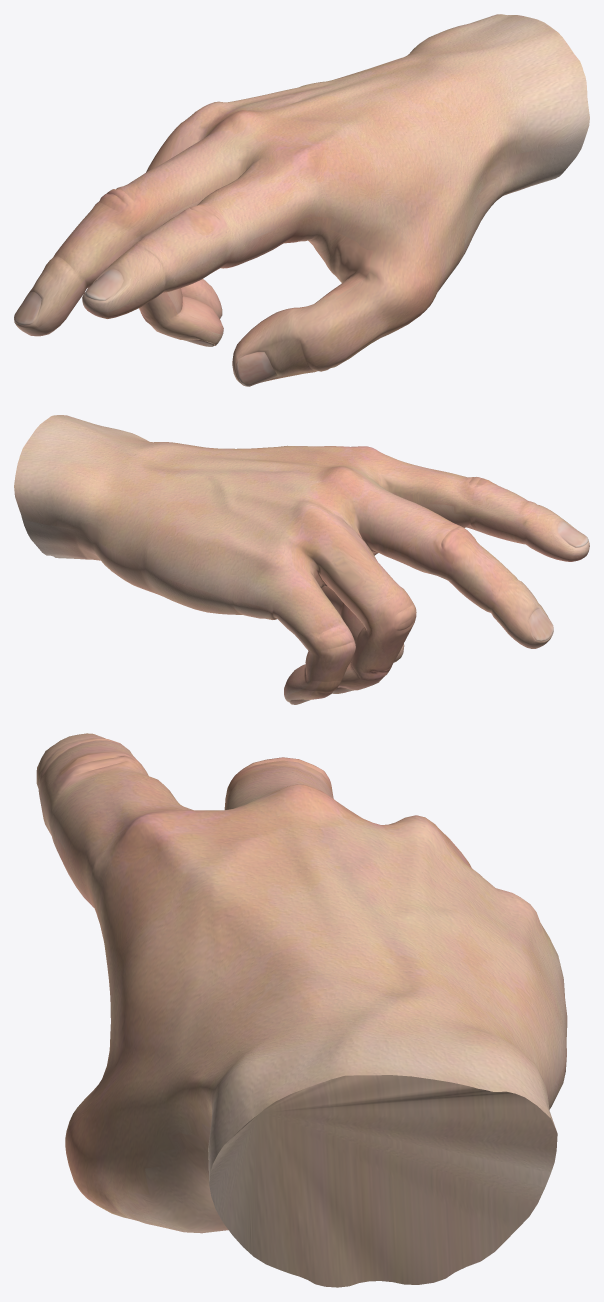
File: hand_37.obj
The picture shows the model from 3 angles, top to bottom: view 1: azimuth 30°, elevation 25°; view 2: azimuth 150°, elevation 25°; view 3: azimuth 270°, elevation 25°; orthographic projection. The views are drawn at different scales.
Parts seen in each view (by area): view 1: Figure_2; view 2: Figure_2; view 3: Figure_2.
Part boxes in pixels (bbox=[...]): Figure_2: bbox=[14, 14, 589, 386]; Figure_2: bbox=[14, 415, 589, 704]; Figure_2: bbox=[36, 733, 567, 1287].
Size of the model in its own units: 0.8649 by 0.3607 by 0.4124.
Materials: 2 (2 with a texture image).
